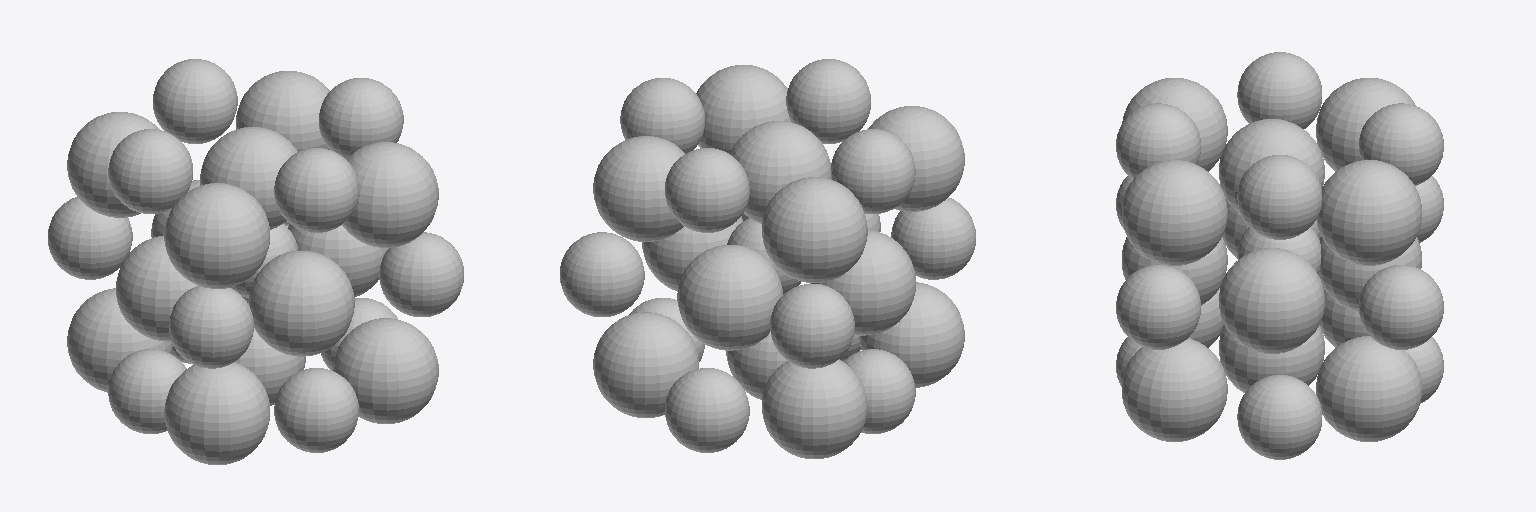
File: nacl.obj
3 renders of one model, left to right at view 1: azimuth 30°, elevation 25°; view 2: azimuth 150°, elevation 25°; view 3: azimuth 270°, elevation 25°, orthographic.
Visible parts, largest first — view 1: Sodium_ball.006_SurfSphere.005, Sodium_ball.013_SurfSphere.012, Sodium_ball.011_SurfSphere.010, Sodium_ball.009_SurfSphere.008, Sodium_ball.008_SurfSphere.007, Chlorine_ball.007_SurfSphere.020, Chlorine_ball.005_SurfSphere.018, Chlorine_ball.002_SurfSphere.015, Chlorine_ball.003_SurfSphere.016, Chlorine_ball.012_SurfSphere.025, Chlorine_ball.013_SurfSphere.026, Sodium_ball.007_SurfSphere.006 (+11 smaller); view 2: Sodium_ball.005_SurfSphere.004, Sodium_ball.003_SurfSphere.002, Sodium_ball.007_SurfSphere.006, Sodium_ball.010_SurfSphere.009, Sodium_ball.001_SurfSphere, Sodium_ball.011_SurfSphere.010, Chlorine_ball.004_SurfSphere.017, Chlorine_ball.011_SurfSphere.024, Chlorine_ball.006_SurfSphere.019, Chlorine_ball.002_SurfSphere.015, Sodium_ball.004_SurfSphere.003, Sodium_ball.012_SurfSphere.011 (+11 smaller); view 3: Sodium_ball.002_SurfSphere.001, Sodium_ball.008_SurfSphere.007, Sodium_ball.001_SurfSphere, Sodium_ball.010_SurfSphere.009, Sodium_ball.009_SurfSphere.008, Chlorine_ball.004_SurfSphere.017, Chlorine_ball.013_SurfSphere.026, Chlorine_ball.009_SurfSphere.022, Chlorine_ball.008_SurfSphere.021, Chlorine_ball.003_SurfSphere.016, Chlorine_ball.002_SurfSphere.015, Sodium_ball.005_SurfSphere.004 (+13 smaller).
Part boxes in pixels (x1,y1,x2,y2): Sodium_ball.006_SurfSphere.005: (164,183,269,288); Sodium_ball.013_SurfSphere.012: (249,251,354,356); Sodium_ball.011_SurfSphere.010: (164,362,269,464); Sodium_ball.009_SurfSphere.008: (333,318,438,423); Sodium_ball.008_SurfSphere.007: (342,142,438,247); Chlorine_ball.007_SurfSphere.020: (274,368,358,452); Chlorine_ball.005_SurfSphere.018: (274,148,358,232); Chlorine_ball.002_SurfSphere.015: (153,59,237,143); Chlorine_ball.003_SurfSphere.016: (108,129,192,213); Chlorine_ball.012_SurfSphere.025: (169,286,253,368); Chlorine_ball.013_SurfSphere.026: (379,232,463,316); Sodium_ball.007_SurfSphere.006: (67,288,172,392); Sodium_ball.005_SurfSphere.004: (762,177,867,282); Sodium_ball.003_SurfSphere.002: (677,245,782,350); Sodium_ball.007_SurfSphere.006: (762,359,867,458); Sodium_ball.010_SurfSphere.009: (593,312,698,417); Sodium_ball.001_SurfSphere: (593,136,684,241); Sodium_ball.011_SurfSphere.010: (859,282,964,387); Chlorine_ball.004_SurfSphere.017: (560,232,644,316); Chlorine_ball.011_SurfSphere.024: (770,284,854,368); Chlorine_ball.006_SurfSphere.019: (665,368,749,452); Chlorine_ball.002_SurfSphere.015: (665,148,749,232); Sodium_ball.004_SurfSphere.003: (730,121,831,223); Sodium_ball.012_SurfSphere.011: (810,230,915,335); Sodium_ball.002_SurfSphere.001: (1219,248,1324,353); Sodium_ball.008_SurfSphere.007: (1122,160,1227,265); Sodium_ball.001_SurfSphere: (1316,160,1421,265); Sodium_ball.010_SurfSphere.009: (1316,336,1421,441); Sodium_ball.009_SurfSphere.008: (1122,338,1227,441); Chlorine_ball.004_SurfSphere.017: (1359,265,1443,349); Chlorine_ball.013_SurfSphere.026: (1116,265,1200,349); Chlorine_ball.009_SurfSphere.022: (1237,375,1321,459); Chlorine_ball.008_SurfSphere.021: (1237,155,1321,239); Chlorine_ball.003_SurfSphere.016: (1237,52,1321,128); Chlorine_ball.002_SurfSphere.015: (1359,103,1443,185); Sodium_ball.005_SurfSphere.004: (1316,78,1415,171).
Bounding box in the file's own units: 101 × 101 × 101.